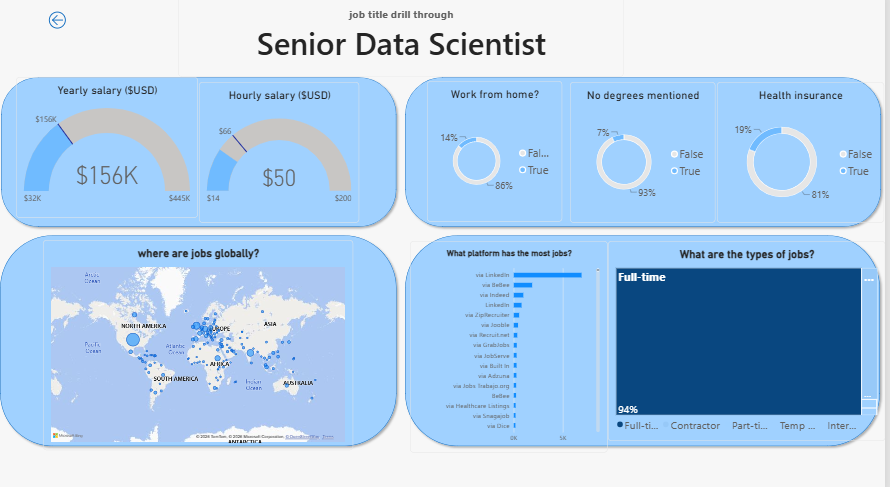

This screenshot's page, from the dashboard's own definition file:
{"tool":"powerbi","page":{"name":"job title drill through","canvas":[1920,1080],"ordinal":1},"visuals":[{"type":"group","id":"g1","title":"background","box":[0,171.9,1920,815.1],"z":500},{"type":"cardVisual","fields":{"Data":["Min(job_postings_flat.job_title_short)1"]},"box":[393.1,0,963.4,181.4],"z":1000},{"type":"actionButton","box":[0,0,265.7,116.6],"z":2000},{"type":"gauge","title":"Hourly salary ($USD)","fields":{"MaxValue":["Max(job_postings_flat.salary_hour_avg)2"],"MinValue":["Min(job_postings_flat.salary_hour_avg)1"],"TargetValue":["Avg(job_postings_flat.salary_hour_avg)3"],"Y":["Median(job_postings_flat.salary_hour_avg)"]},"box":[439.5,191.5,346.2,304.5],"z":3000},{"type":"gauge","title":"Yearly salary ($USD)","fields":{"MaxValue":["Max(job_postings_flat.salary_year_avg)2"],"MinValue":["Min(job_postings_flat.salary_year_avg)1"],"TargetValue":["Avg(job_postings_flat.salary_year_avg)3"],"Y":["Median(job_postings_flat.salary_year_avg)"]},"box":[44.2,181.7,392.8,304.5],"z":4000},{"type":"donutChart","title":"Work from home?","fields":{"Category":["job_postings_flat.job_work_from_home"],"Y":["CountNonNull(job_postings_flat.job_no_degree_mention)"]},"box":[930.5,189.1,292.2,304.5],"z":5000},{"type":"donutChart","title":"Health insurance","fields":{"Category":["job_postings_flat.job_health_insurance"],"Y":["CountNonNull(job_postings_flat.job_no_degree_mention)"]},"box":[1556.6,191.5,360.9,304.5],"z":6000},{"type":"donutChart","title":"No degrees mentioned","fields":{"Category":["job_postings_flat.job_no_degree_mention"],"Y":["CountNonNull(job_postings_flat.job_no_degree_mention)"]},"box":[1239.9,191.5,314.3,304.5],"z":7000},{"type":"map","title":"where are jobs globally?","fields":{"Category":["job_postings_flat.job_country"],"Size":["CountNonNull(job_postings_flat.job_title_short)"]},"box":[100.7,532.8,670.3,454.2],"z":8000},{"type":"treemap","title":"What are the types of jobs?","fields":{"Group":["job_postings_flat.job_schedule_type"],"Values":["CountNonNull(job_postings_flat.job_schedule_type)"]},"box":[1320.9,535.8,599.1,432.1],"z":9000},{"type":"barChart","title":"What platform has the most jobs?","fields":{"Category":["job_postings_flat.job_via"],"Y":["CountNonNull(job_postings_flat.job_title_short)"]},"box":[893.7,535.2,427.2,456.7],"z":10000},{"type":"shape","box":[2.5,171.9,871.6,341.3],"z":12125,"group":"g1"},{"type":"shape","box":[874.1,171.9,1045.9,341.3],"z":12250,"group":"g1"},{"type":"shape","box":[0,513.2,874.1,473.9],"z":12500,"group":"g1"},{"type":"shape","box":[874.1,513.2,1043.5,473.9],"z":13000,"group":"g1"}]}

Visuals, with their boxes in screenshot pixels (x1, y1, x2, y2), scaled from the page's 1920x1080 canvas onto the 890x487 screenshot:
"background" group: 0/78/889/445
cardVisual - Min(job_postings_flat.job_title_short)1: 182/0/629/82
actionButton: 0/0/123/53
"Hourly salary ($USD)" gauge: 204/86/364/224
"Yearly salary ($USD)" gauge: 20/82/203/219
"Work from home?" donutChart: 431/85/567/223
"Health insurance" donutChart: 722/86/889/224
"No degrees mentioned" donutChart: 575/86/720/224
"where are jobs globally?" map: 47/240/357/445
"What are the types of jobs?" treemap: 612/242/889/436
"What platform has the most jobs?" barChart: 414/241/612/447
shape: 1/78/405/231
shape: 405/78/889/231
shape: 0/231/405/445
shape: 405/231/889/445
